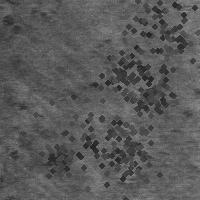rolled-in_scale: (59, 83, 179, 200), (31, 74, 149, 192), (101, 0, 200, 93), (83, 35, 159, 111), (1, 94, 66, 178), (112, 56, 184, 128), (109, 117, 161, 196), (1, 1, 57, 37), (38, 134, 80, 176)
